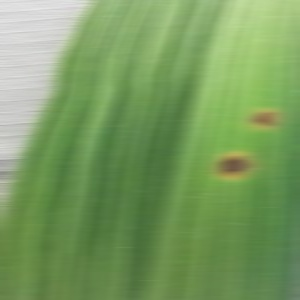Bacterial_Leaf_Blight: (206, 142, 271, 188), (245, 102, 288, 139)
